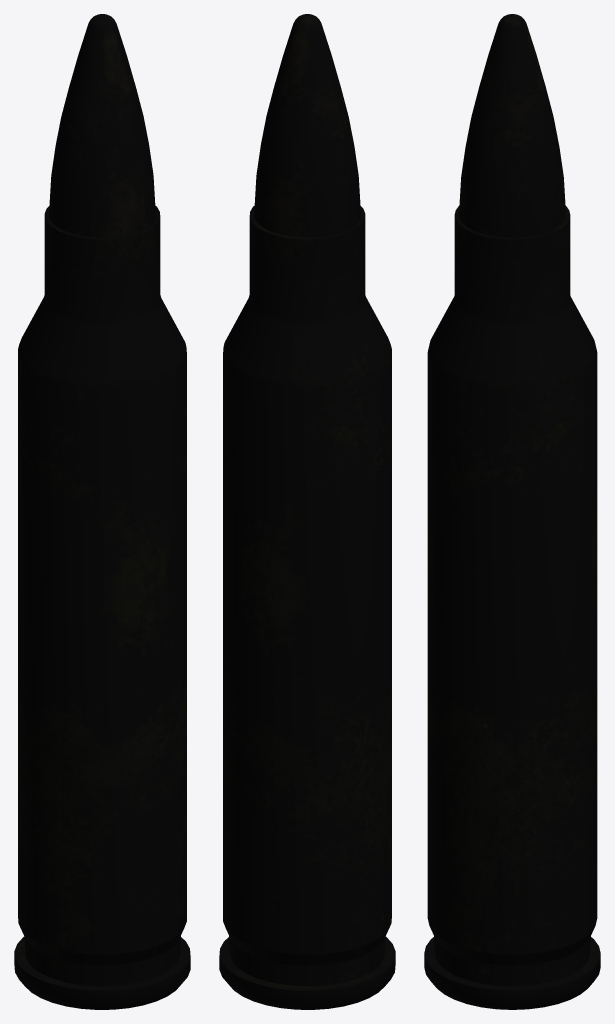
Rendered from 5.56x45mm_bullet.glb.
3 views of the same model, side by side, from view 1: azimuth 30°, elevation 25°; view 2: azimuth 150°, elevation 25°; view 3: azimuth 270°, elevation 25° (orthographic).
Parts seen in each view (by area): view 1: Casing_low, Bullet_low; view 2: Casing_low, Bullet_low; view 3: Casing_low, Bullet_low.
Boxes of the visible parts, bbox=[...] form: Casing_low: bbox=[14, 206, 190, 1009]; Bullet_low: bbox=[49, 14, 155, 237]; Casing_low: bbox=[219, 206, 395, 1009]; Bullet_low: bbox=[254, 14, 360, 237]; Casing_low: bbox=[424, 206, 600, 1009]; Bullet_low: bbox=[459, 14, 565, 237].
Size of the model in its own units: 76.78 by 461 by 76.78.
Materials: 1 (1 with a texture image).
